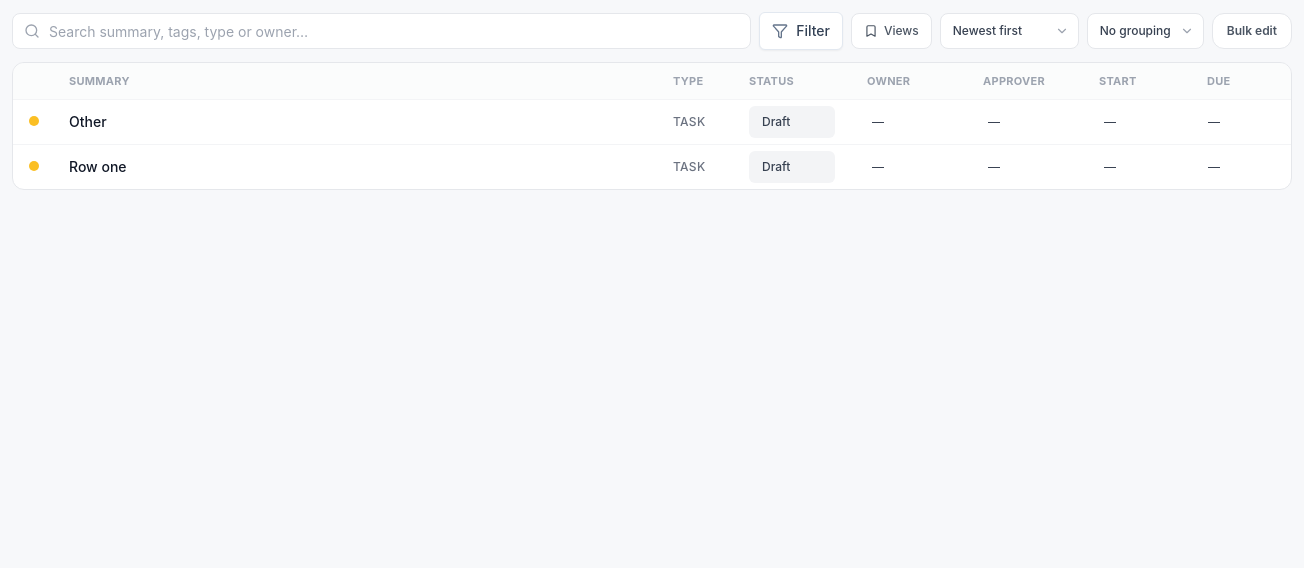
it: ListView row context menu (Step 1) › Open task navigates and closes menu
Expected: the text "Row one" is shown, x1=69 y1=158 x2=126 y2=175
Right-click the text "Row one" at (652, 167), box x1=13 y1=144 x2=1291 y2=189
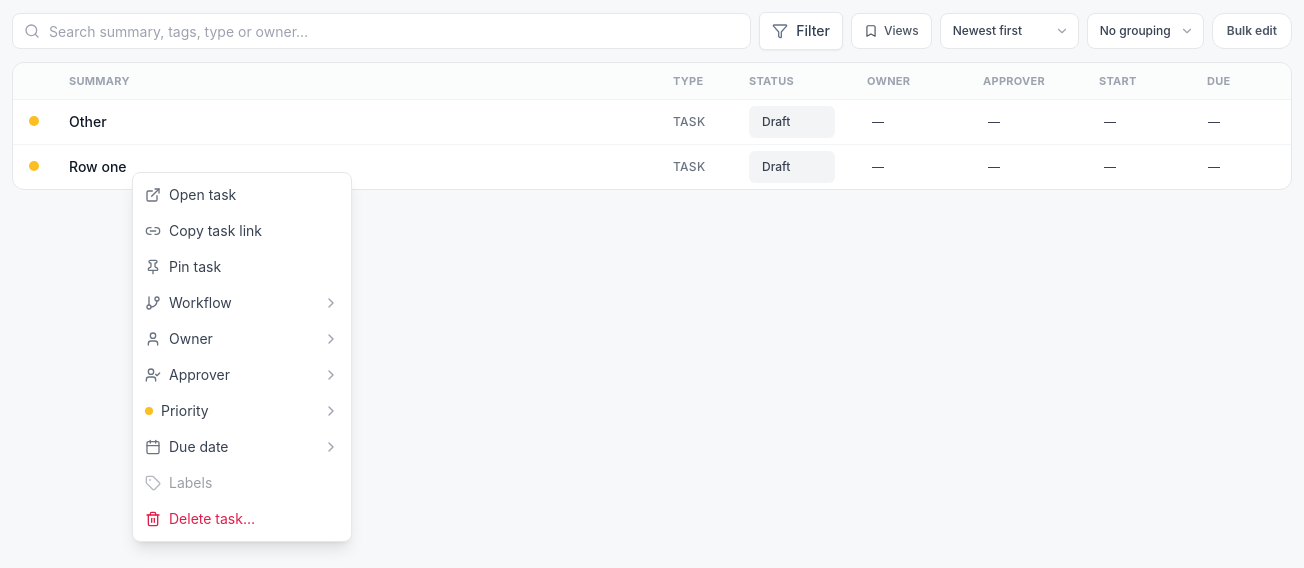
Click the menu item "Open task" at (242, 195), box x1=133 y1=177 x2=351 y2=213
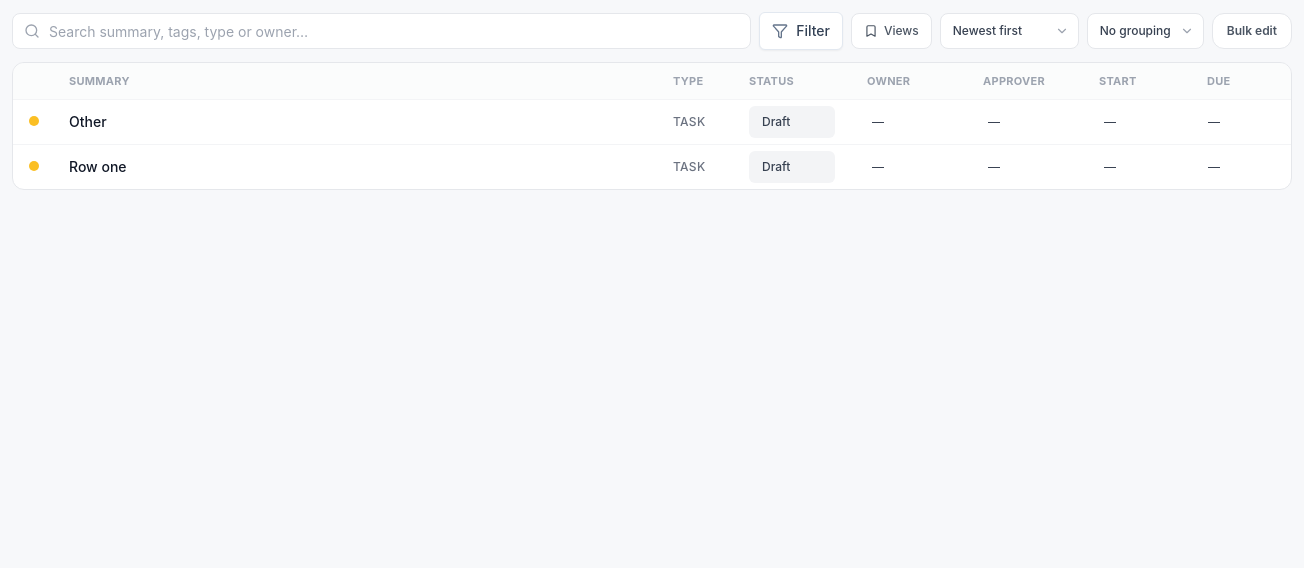
Now the menu is gone
